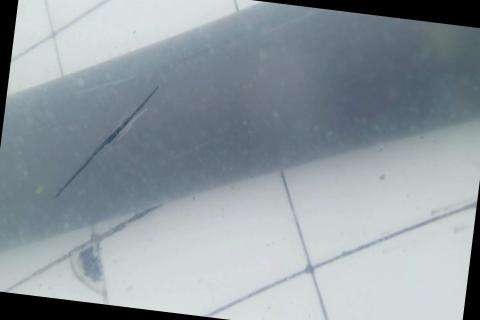keretakan: (54, 74, 159, 210)
